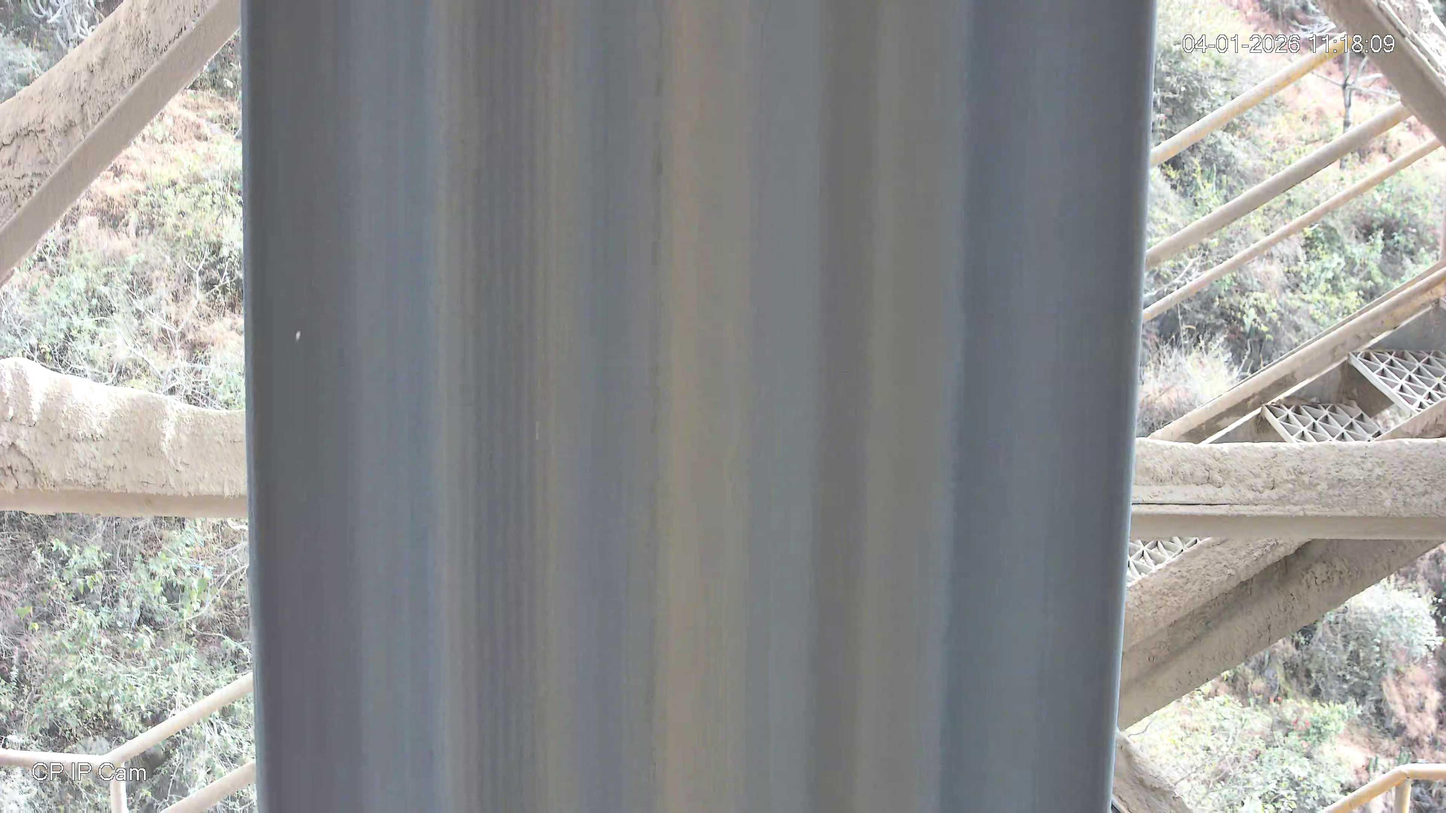belt_roi: (239, 1, 1157, 813)
